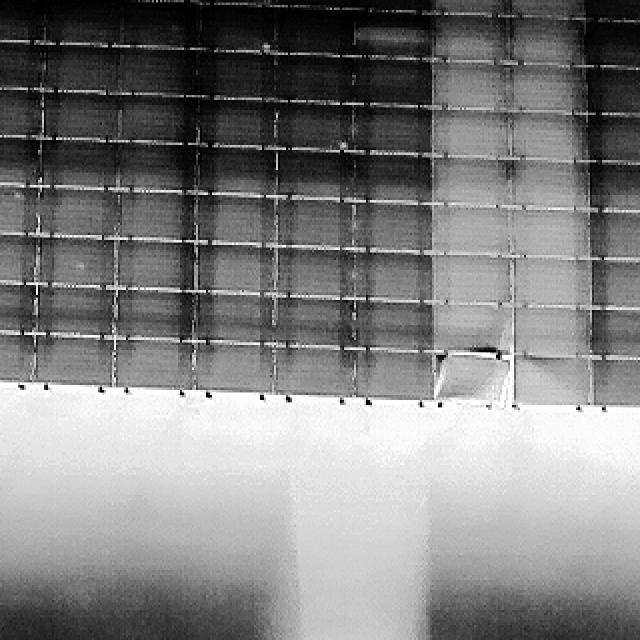PV-modules: (189, 339, 273, 394), (354, 346, 440, 399), (270, 344, 354, 396), (354, 298, 438, 350), (111, 287, 193, 340), (113, 240, 193, 294), (432, 304, 512, 358), (30, 334, 113, 386), (193, 192, 274, 245), (111, 336, 193, 388), (508, 354, 590, 406), (431, 204, 513, 256), (36, 283, 118, 335), (198, 144, 279, 196), (510, 308, 590, 360), (512, 257, 592, 309), (192, 294, 272, 346), (270, 298, 353, 348), (510, 206, 589, 258), (354, 156, 436, 206), (198, 100, 278, 151), (353, 202, 433, 253), (272, 246, 350, 298), (116, 141, 194, 193), (40, 187, 121, 237), (349, 57, 433, 105), (350, 252, 434, 300), (348, 106, 432, 154), (433, 159, 512, 210), (38, 238, 118, 288), (507, 64, 585, 115), (434, 255, 512, 306), (116, 190, 192, 242), (198, 246, 277, 296), (508, 163, 587, 213), (119, 47, 198, 97), (198, 51, 277, 101), (436, 350, 510, 403), (276, 6, 356, 55), (42, 136, 120, 186), (433, 110, 511, 160), (275, 56, 356, 104), (356, 14, 438, 61), (276, 150, 353, 200), (116, 0, 196, 48), (275, 195, 350, 246), (120, 96, 198, 145), (274, 100, 350, 150), (508, 20, 584, 70), (434, 60, 510, 110), (201, 2, 277, 52), (42, 93, 121, 141), (43, 45, 122, 93), (507, 114, 584, 163), (434, 18, 511, 67), (40, 0, 120, 45), (586, 62, 640, 112), (586, 18, 640, 68), (586, 114, 640, 162), (590, 164, 640, 215), (590, 212, 640, 262), (591, 310, 640, 361), (591, 356, 640, 406), (592, 259, 640, 310), (0, 40, 46, 88), (0, 88, 42, 138), (0, 135, 38, 185), (0, 330, 36, 382), (0, 0, 44, 42), (0, 235, 38, 283), (0, 280, 36, 330), (0, 185, 36, 233), (506, 0, 582, 20), (430, 0, 508, 18), (584, 0, 640, 20), (352, 0, 434, 12), (272, 0, 354, 8), (202, 0, 274, 8), (126, 0, 198, 5)
